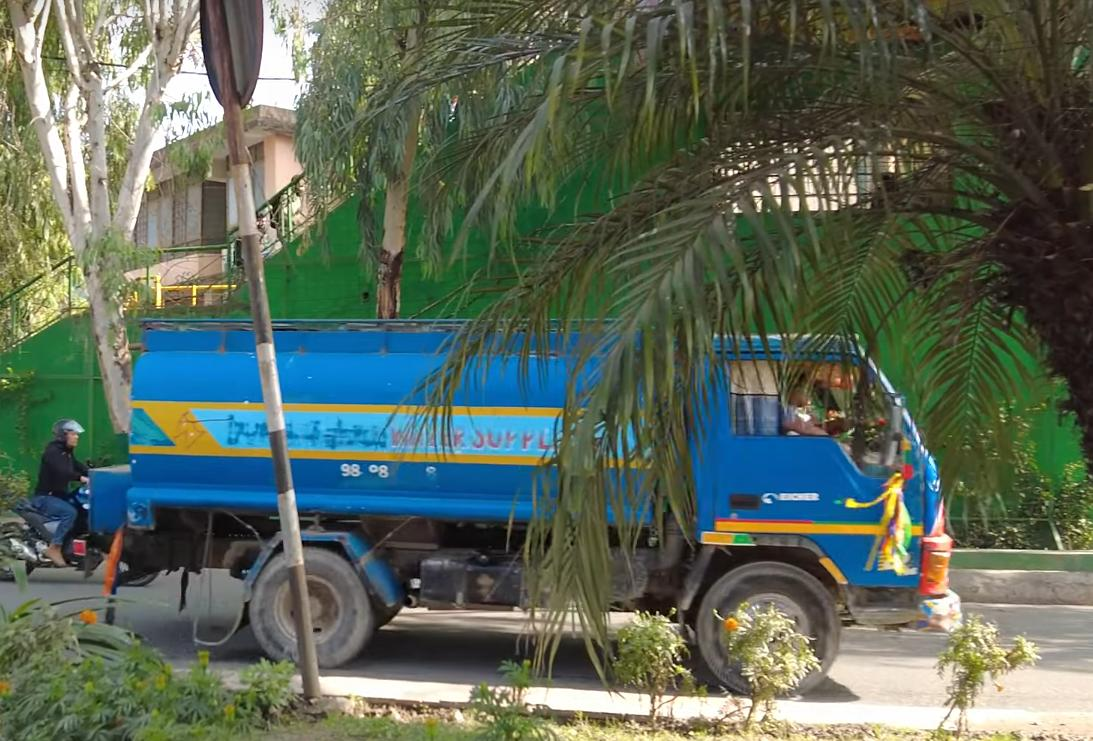bike: (10, 429, 124, 591)
mini_truck: (82, 294, 968, 709)
